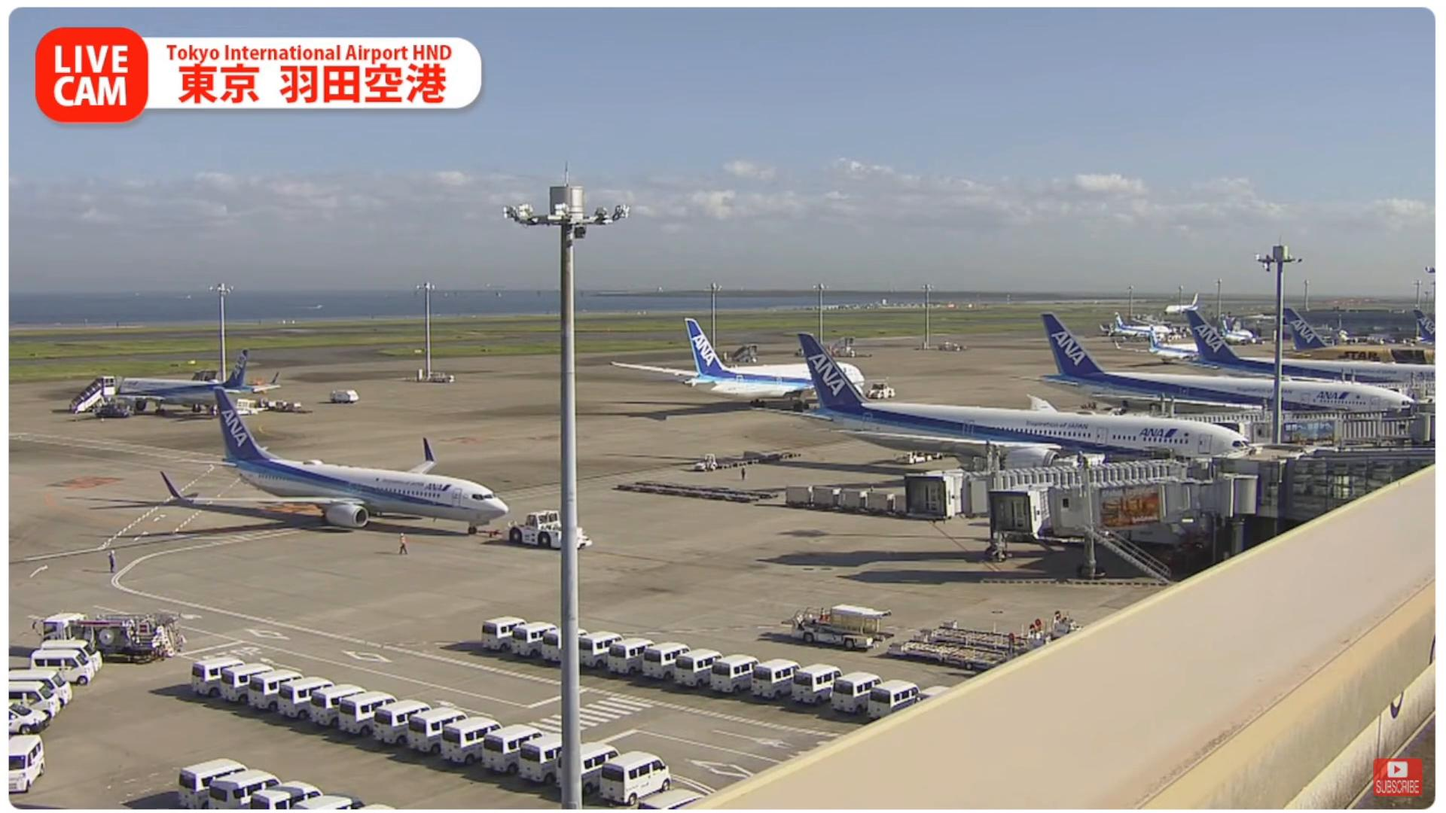APS: (502, 508, 591, 554)
Aerobridge: (904, 443, 1220, 528), (991, 451, 1256, 537)
Airplane: (160, 388, 511, 540)
JCPL: (918, 616, 1075, 656), (890, 639, 1018, 670)
Skyloader: (789, 603, 894, 653)
Window: (1290, 445, 1435, 519)
